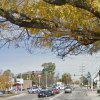Tree: (21, 1, 100, 55)
